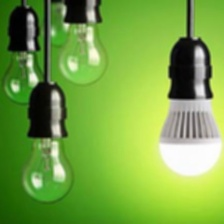light_bulb: (150, 88, 224, 184), (17, 129, 77, 207), (53, 14, 112, 93), (0, 38, 54, 110)
